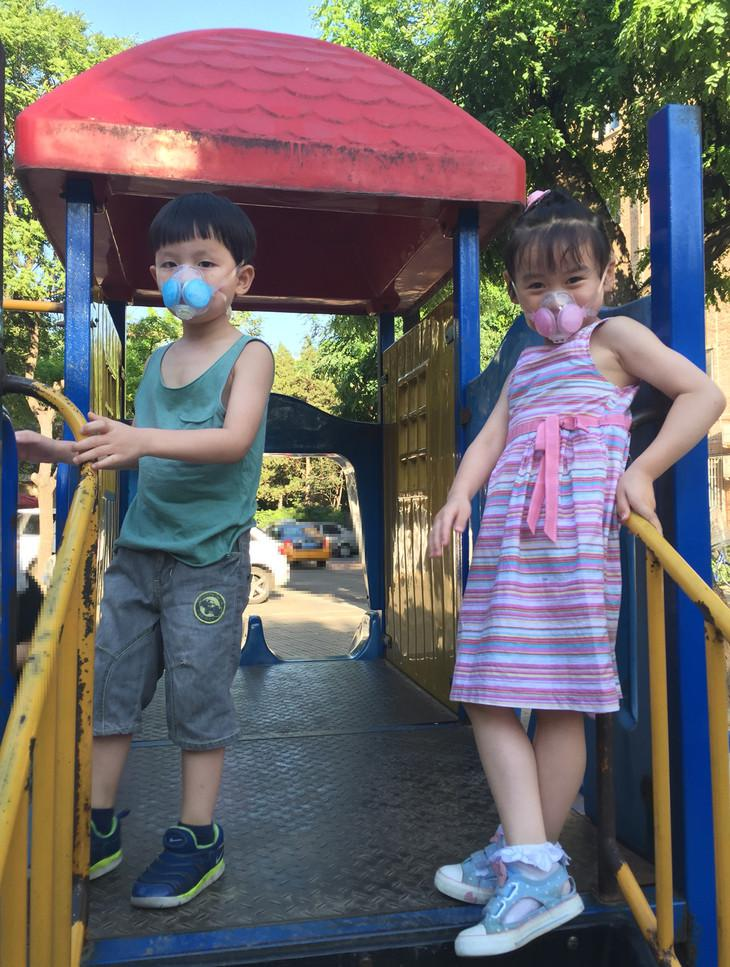OK: (161, 245, 239, 323), (518, 263, 590, 335)
